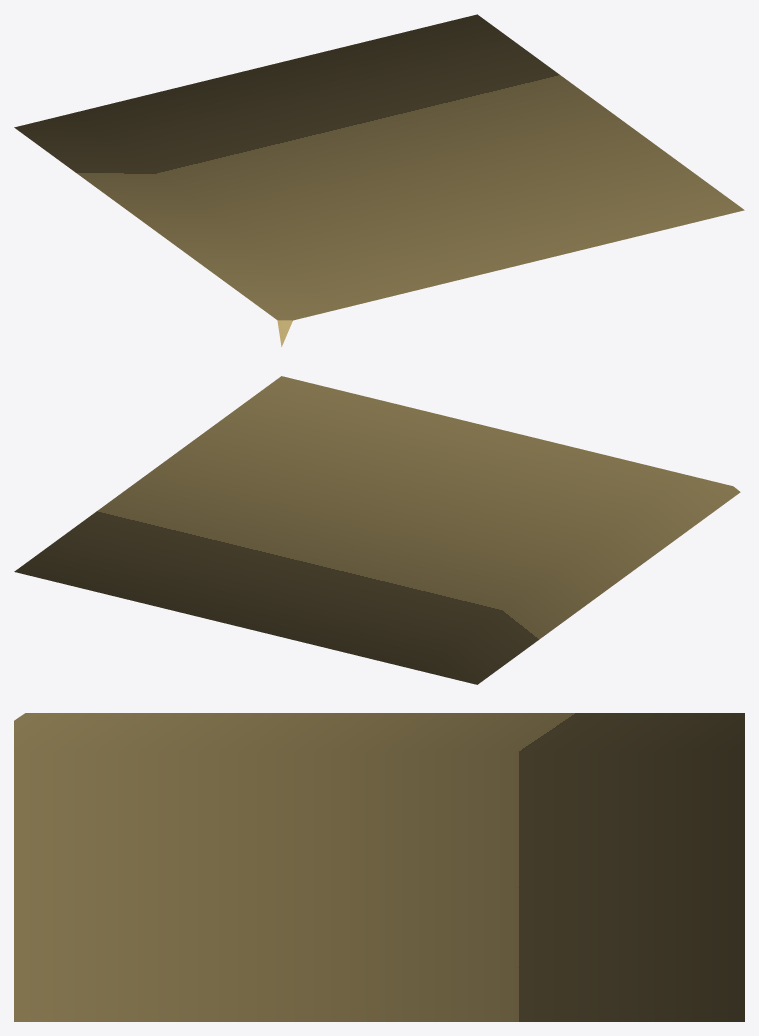
3 renders of one model, top to bottom at view 1: azimuth 30°, elevation 25°; view 2: azimuth 150°, elevation 25°; view 3: azimuth 270°, elevation 25°, orthographic. The views are drawn at different scales.
Bounding box in the file's own units: 1 × 0.05 × 1.
Materials: 2 (2 with a texture image).
